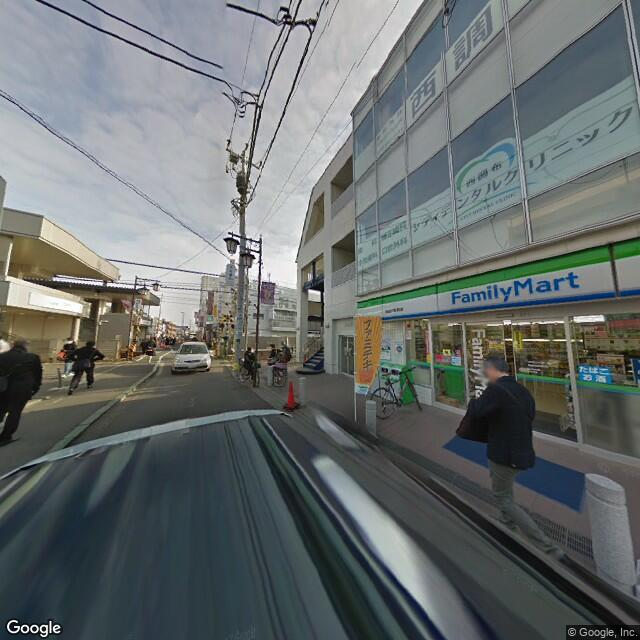family_mart: (357, 234, 639, 322), (449, 265, 583, 315), (467, 326, 485, 399)
